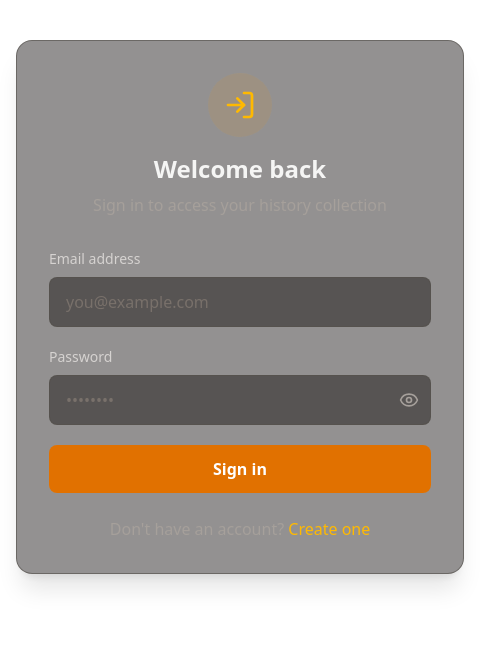
Scenario: LoginPage › should show error message on failed login
Type "test@example.com" into the field labelled "Email address" at (240, 302), box 49,277 -> 431,327
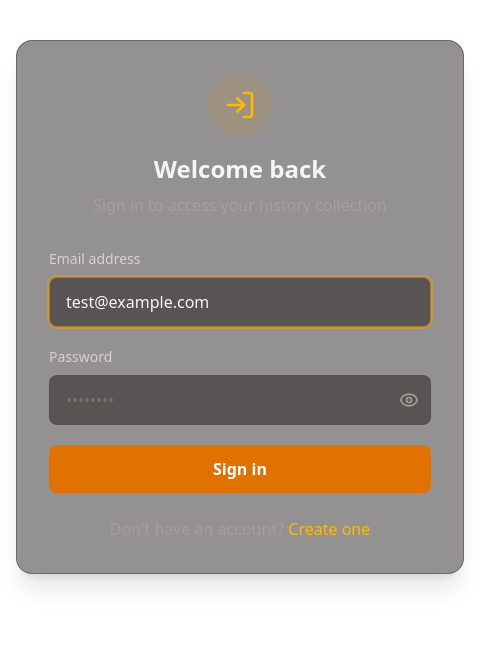
Type "wrong" into the password field labelled "Password" at (240, 400), box 49,375 -> 431,425
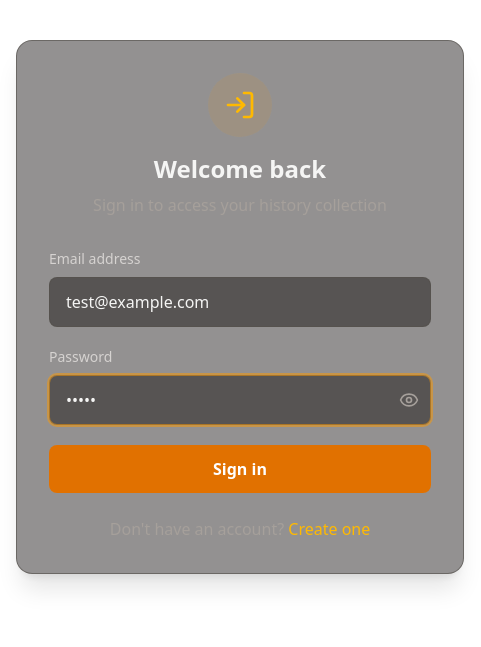
Click the button "Sign in" at (240, 469), box 49,445 -> 431,493
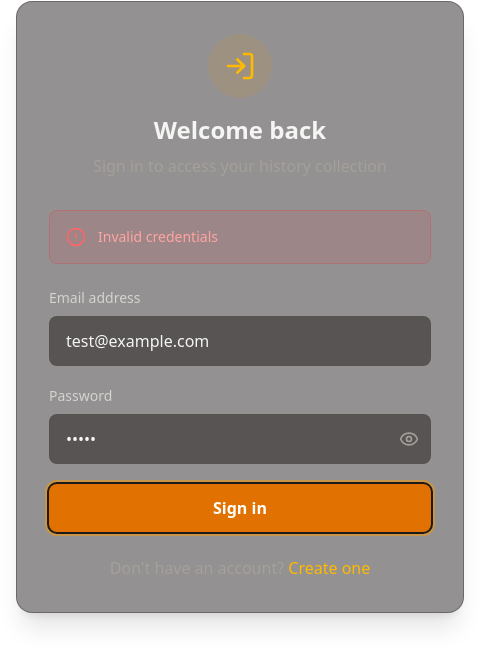
Now the text "Invalid credentials" is shown, box 98,227 -> 218,247
